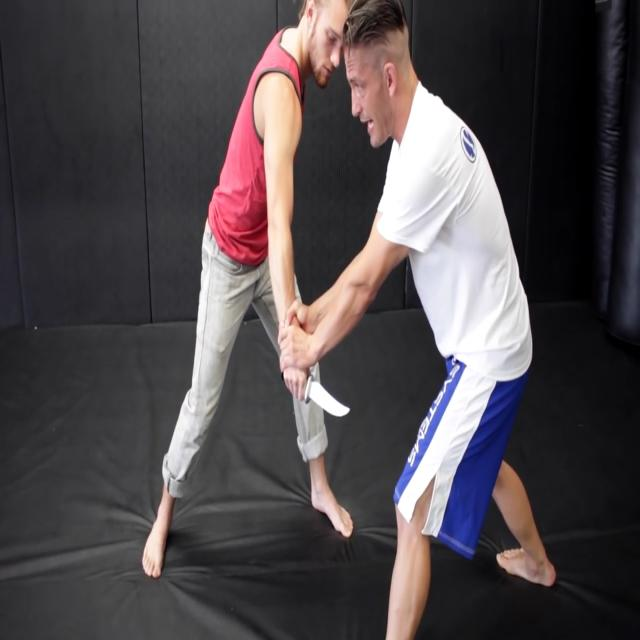knife: (306, 374, 352, 423)
